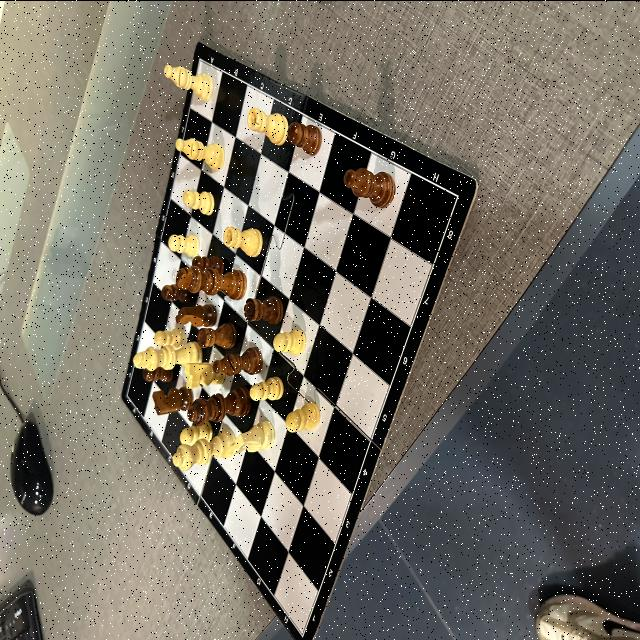Black-Bishop: (343, 167, 396, 207), (214, 346, 262, 374)
Black-King: (175, 266, 247, 300)
Black-Knight: (152, 386, 194, 414), (176, 302, 217, 326)
Black-Pawn: (286, 124, 321, 154), (191, 255, 225, 273), (142, 365, 174, 381), (162, 284, 190, 302)
Black-Queen: (188, 386, 252, 424)
Black-Rook: (244, 294, 284, 322), (198, 322, 238, 347)
White-Bishop: (164, 63, 213, 102), (175, 138, 225, 170)
White-King: (133, 340, 203, 370)
White-Knight: (230, 419, 276, 454), (184, 358, 227, 388)
White-Pawn: (285, 402, 320, 431), (272, 329, 306, 354), (250, 376, 284, 401), (182, 190, 216, 214), (180, 420, 212, 444), (168, 234, 200, 257), (154, 327, 186, 347)
White-Queen: (173, 428, 236, 469)
White-Rook: (246, 106, 288, 144), (223, 226, 263, 256)
